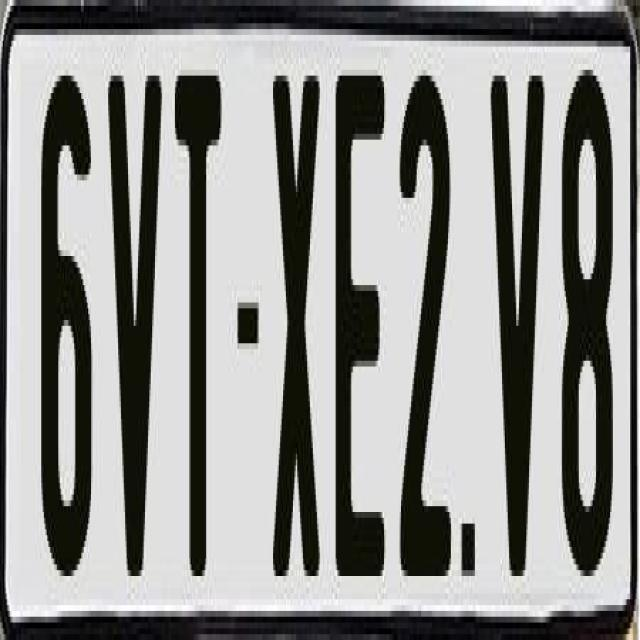2: (400, 64, 454, 576)
6: (39, 64, 90, 594)
8: (559, 52, 613, 588)
E: (331, 58, 387, 576)
T: (175, 64, 223, 570)
V: (104, 64, 161, 588), (489, 58, 545, 558)
X: (272, 70, 322, 606)
